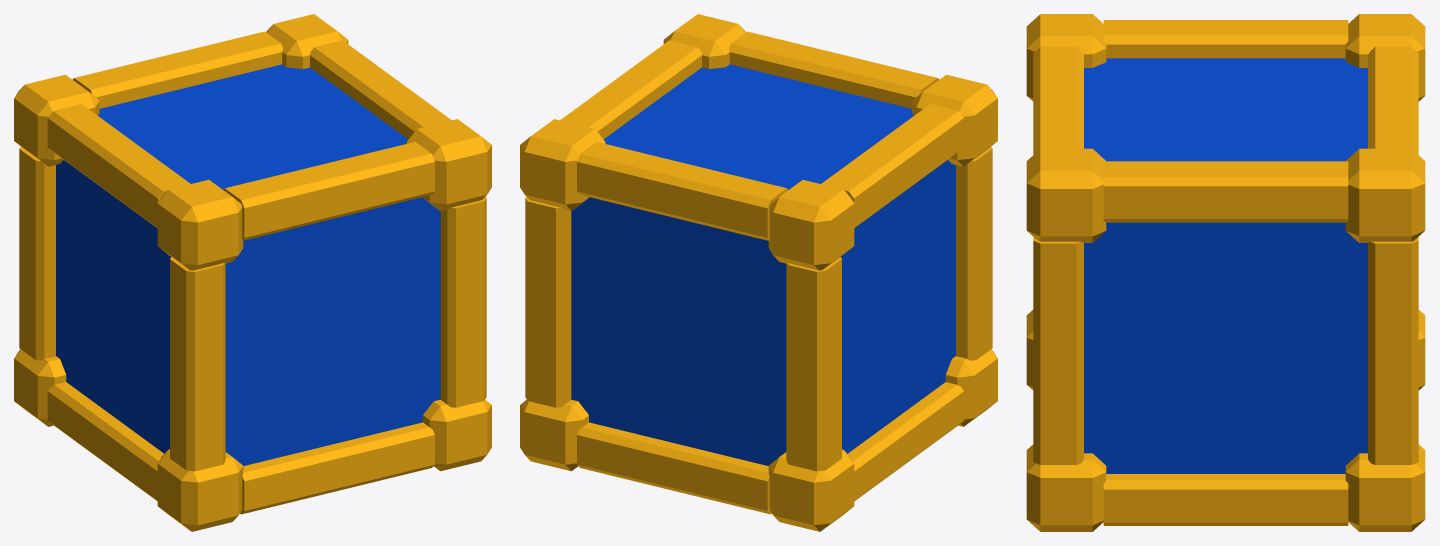
The model's file is powerup-cube.glb.
3 renders of one model, left to right at view 1: azimuth 30°, elevation 25°; view 2: azimuth 150°, elevation 25°; view 3: azimuth 270°, elevation 25°, orthographic. The views are drawn at different scales.
Parts seen in each view (by area): view 1: Cube_Body; view 2: Cube_Body; view 3: Cube_Body.
Part boxes in pixels (bbox=[...]): Cube_Body: bbox=[14, 14, 491, 531]; Cube_Body: bbox=[520, 14, 997, 531]; Cube_Body: bbox=[1026, 14, 1425, 531].
Bounding box in the file's own units: 1 × 1 × 1.
